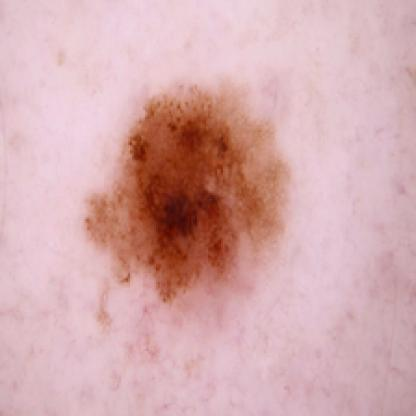Skin_Cancer-Malignant: (81, 86, 290, 304)
